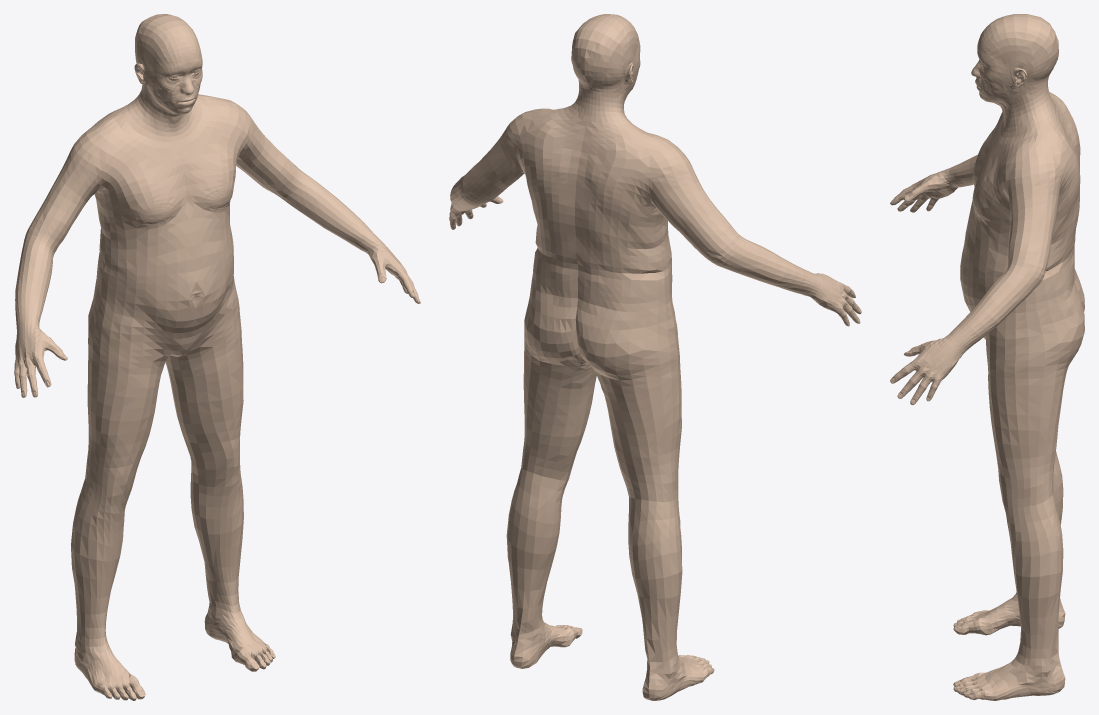
File: male-mature-max-toned.glb
3 views of the same model, side by side, from view 1: azimuth 30°, elevation 25°; view 2: azimuth 150°, elevation 25°; view 3: azimuth 270°, elevation 25° (orthographic).
Visible parts, largest first — view 1: world; view 2: world; view 3: world.
Part boxes in pixels (bbox=[...]): world: bbox=[14, 14, 420, 700]; world: bbox=[449, 14, 861, 700]; world: bbox=[890, 14, 1084, 700].
Size of the model in its own units: 1.25 by 1.94 by 0.5311.
